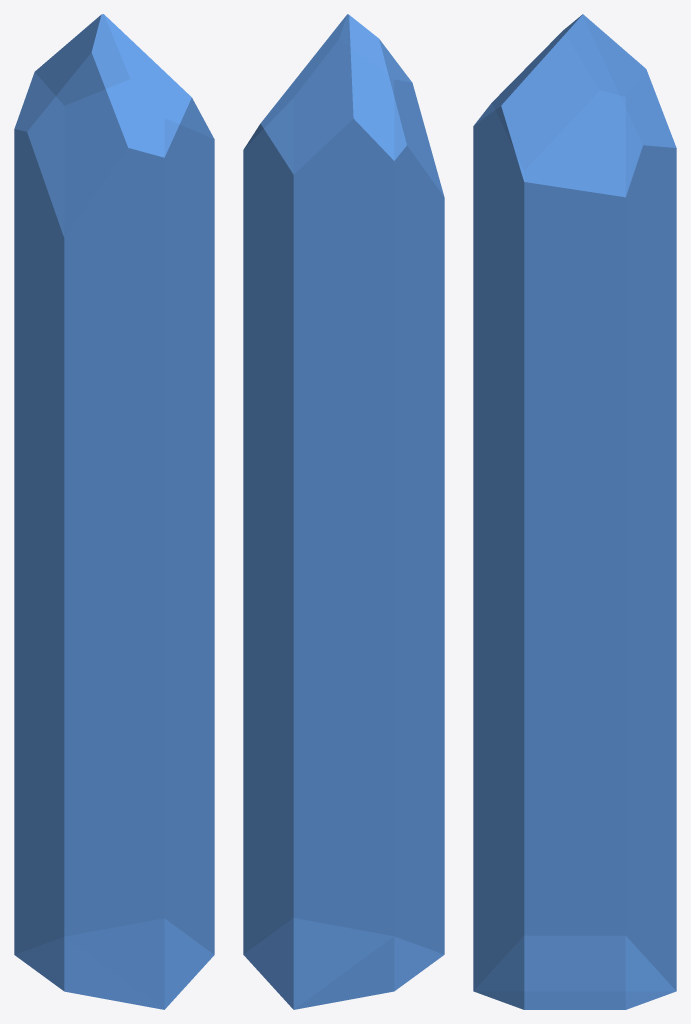
File: Crystal_m_09.fbx
3 renders of one model, left to right at view 1: azimuth 30°, elevation 25°; view 2: azimuth 150°, elevation 25°; view 3: azimuth 270°, elevation 25°, orthographic.
Visible parts, largest first — view 1: Crystal_m_09; view 2: Crystal_m_09; view 3: Crystal_m_09.
Boxes of the visible parts, <box> form: Crystal_m_09: <box>14,14,214,1009</box>; Crystal_m_09: <box>243,14,444,1009</box>; Crystal_m_09: <box>473,14,676,1009</box>.
Size of the model in its own units: 0.3783 by 2.31 by 0.4368.
